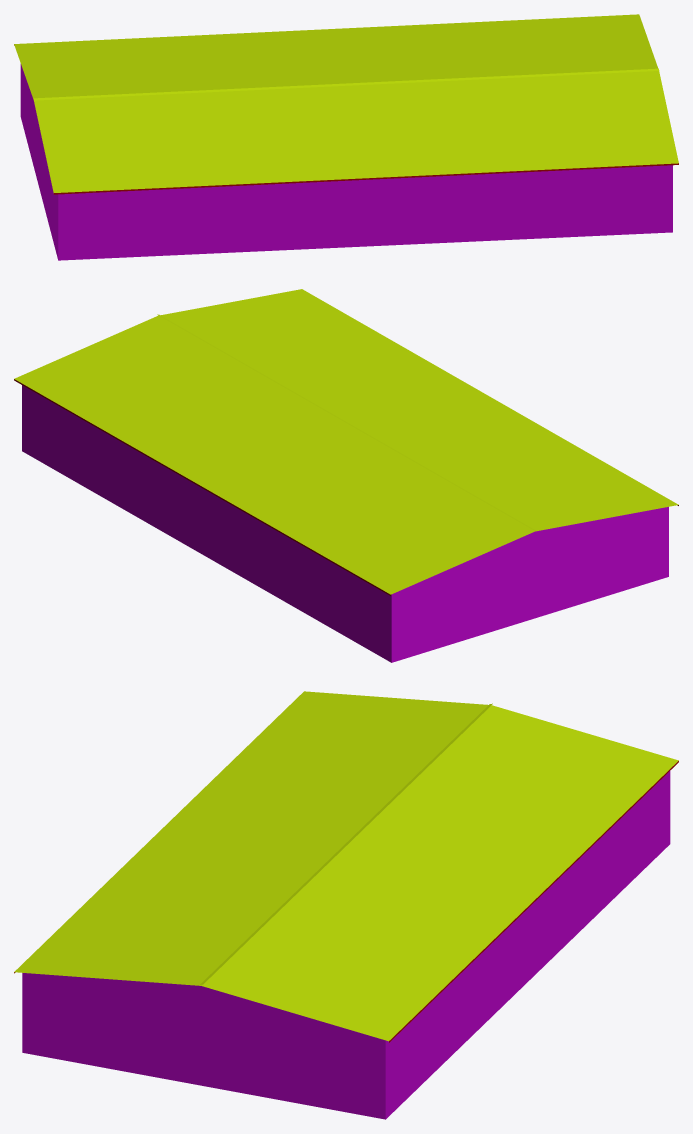
Rendered from bgj_22.glb.
The picture shows the model from 3 angles, top to bottom: view 1: azimuth 30°, elevation 25°; view 2: azimuth 150°, elevation 25°; view 3: azimuth 270°, elevation 25°; orthographic projection. The views are drawn at different scales.
Visible parts, largest first — view 1: bgj_22; view 2: bgj_22; view 3: bgj_22.
Boxes of the visible parts, x1=… form: bgj_22: x1=14, y1=14, x2=678, y2=260; bgj_22: x1=14, y1=289, x2=678, y2=662; bgj_22: x1=14, y1=691, x2=678, y2=1119.
Size of the model in its own units: 52.06 by 7.25 by 41.8.
